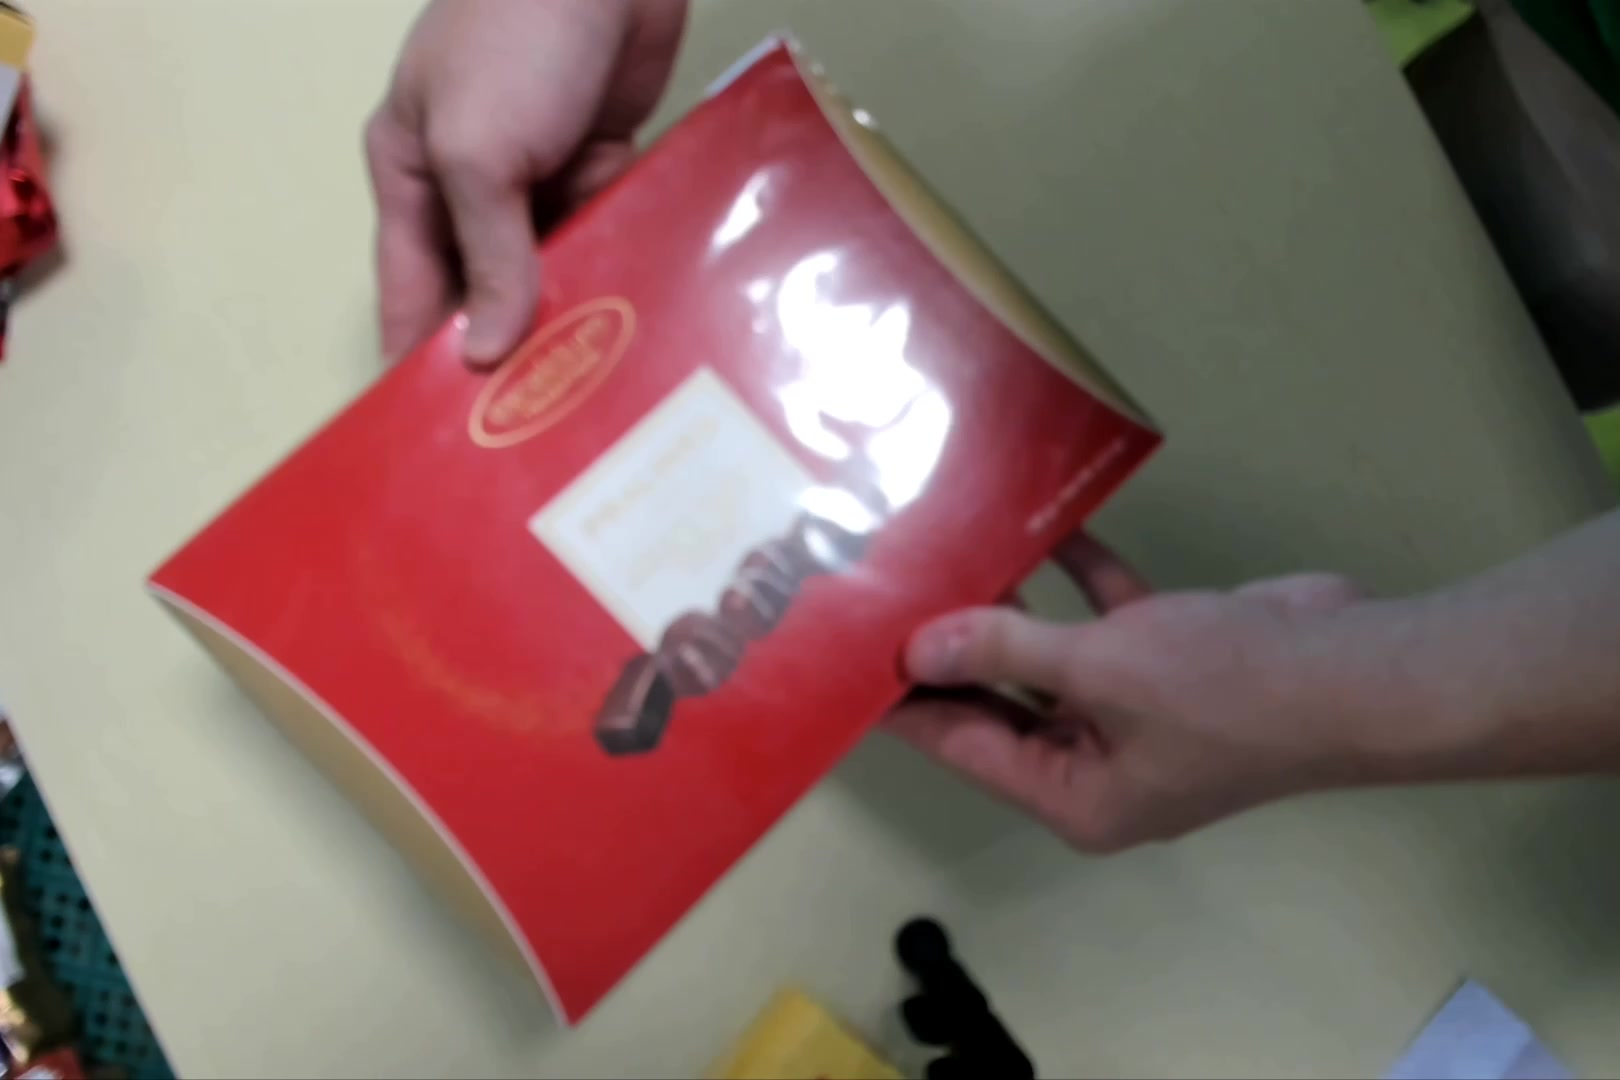SweetsChocolatesOthers_100-199g_NonHalal_NonHealthy: (134, 29, 1154, 1037)
